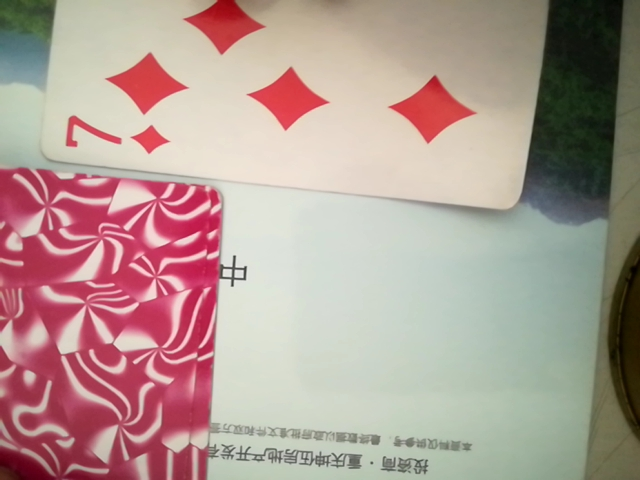fk 7: (24, 1, 559, 215)
